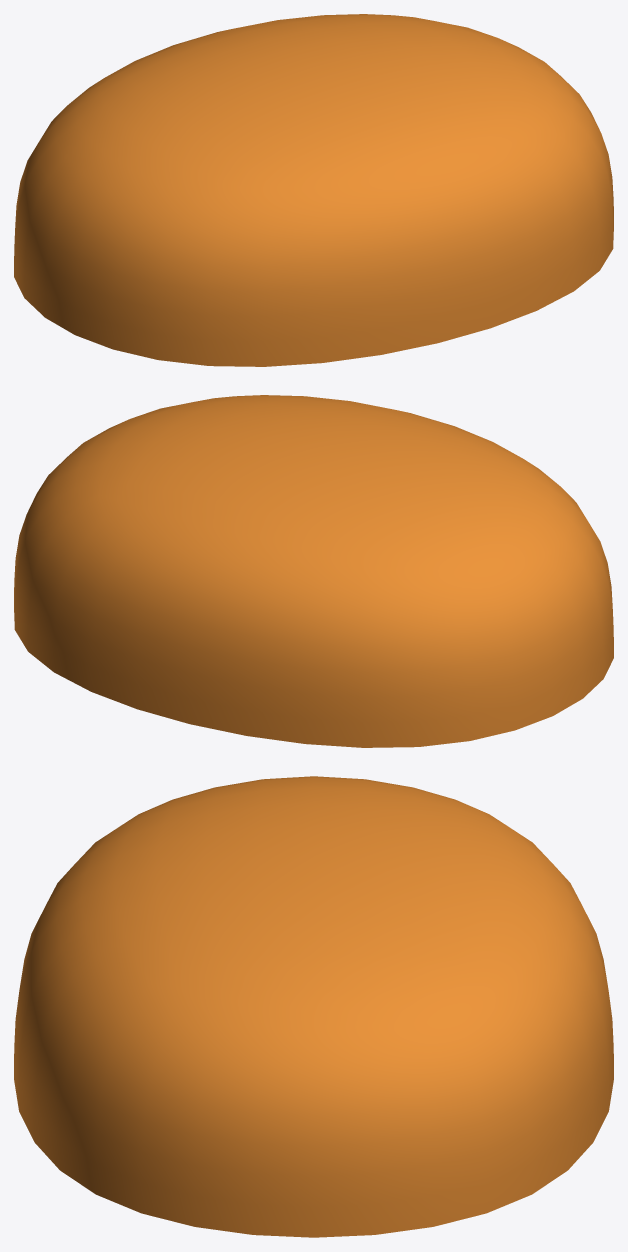
The model's file is PanArriba.glb.
3 views of the same model, one above another, from view 1: azimuth 30°, elevation 25°; view 2: azimuth 150°, elevation 25°; view 3: azimuth 270°, elevation 25° (orthographic). The views are drawn at different scales.
Visible parts, largest first — view 1: Cube; view 2: Cube; view 3: Cube.
Part boxes in pixels (left/top/right/bottom): Cube: left=14, top=14, right=613, bottom=366; Cube: left=14, top=395, right=613, bottom=747; Cube: left=14, top=776, right=613, bottom=1237.
Bounding box in the file's own units: 2.29 × 0.7557 × 1.83.
